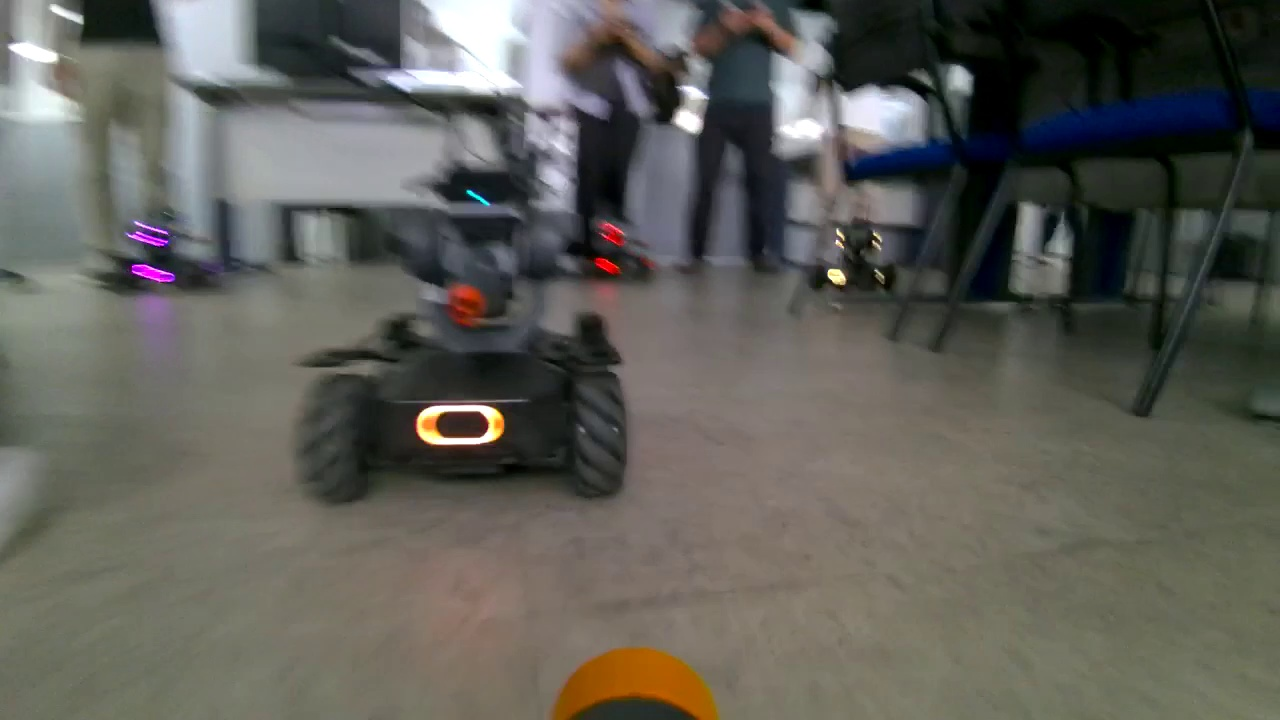robot: (269, 93, 637, 523), (814, 202, 901, 298)
